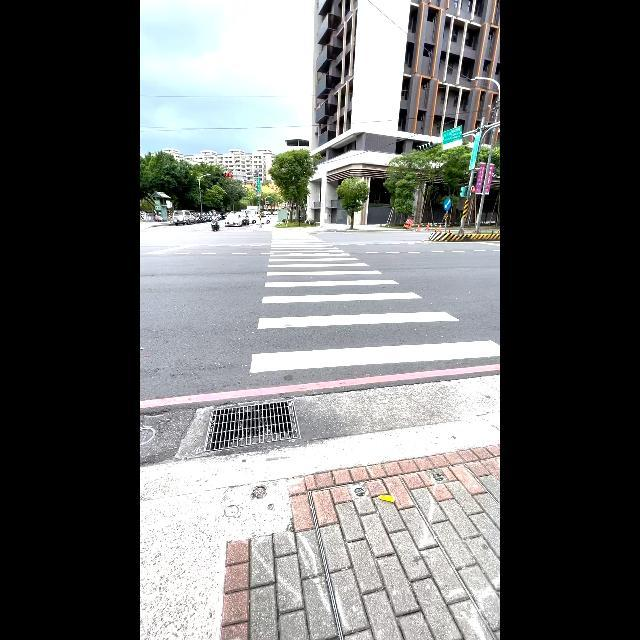sidewalk: (248, 227, 500, 383)
